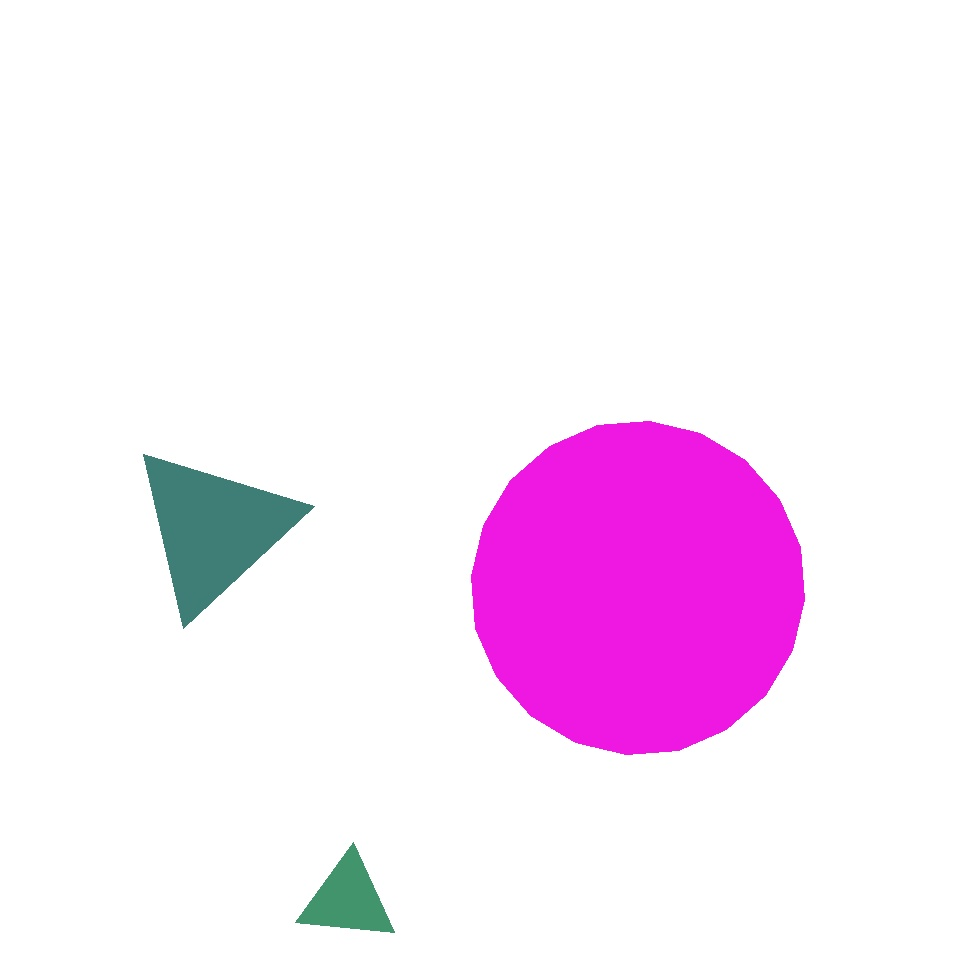circle: (634, 460, 890, 714), (124, 318, 356, 524), (128, 443, 300, 617), (42, 202, 198, 342), (298, 854, 398, 944)
triangle: (471, 422, 804, 755), (578, 430, 800, 652)
